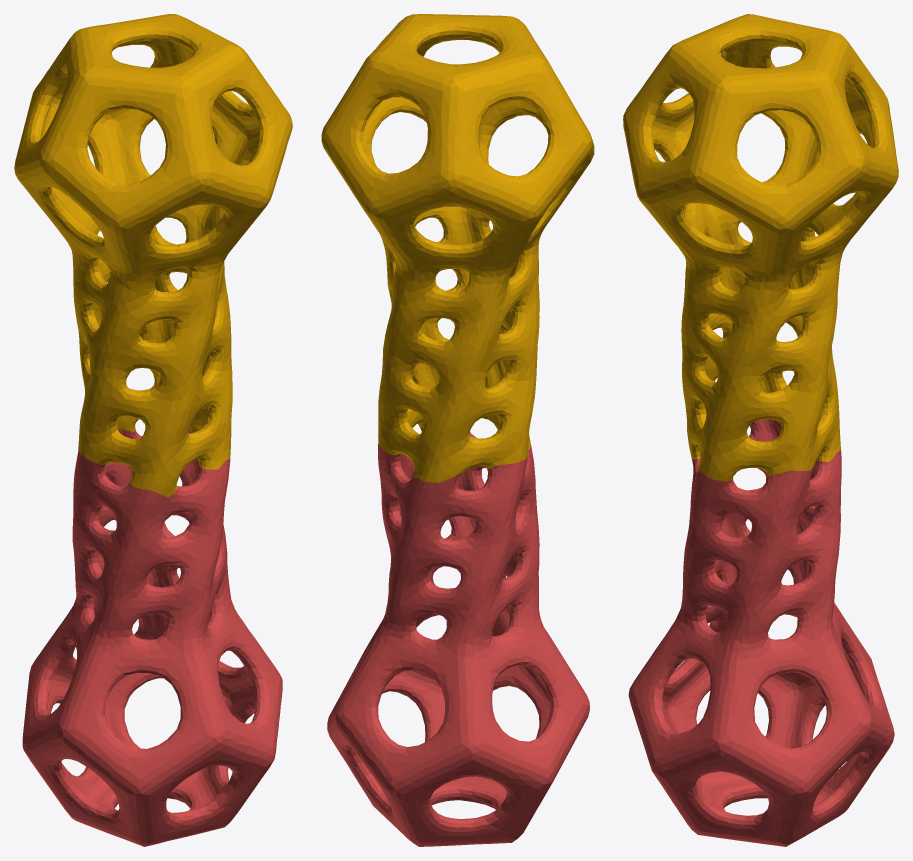
The model's file is fractured_54_2pcs.glb.
The picture shows the model from 3 angles, left to right: view 1: azimuth 30°, elevation 25°; view 2: azimuth 150°, elevation 25°; view 3: azimuth 270°, elevation 25°; orthographic projection.
Visible parts, largest first — view 1: piece_0.obj, piece_1.obj; view 2: piece_0.obj, piece_1.obj; view 3: piece_0.obj, piece_1.obj.
Boxes of the visible parts, left/top/right/bottom form: piece_0.obj: left=14, top=14, right=292, bottom=497; piece_1.obj: left=22, top=428, right=282, bottom=846; piece_0.obj: left=321, top=14, right=594, bottom=482; piece_1.obj: left=327, top=431, right=589, bottom=846; piece_0.obj: left=623, top=14, right=898, bottom=481; piece_1.obj: left=628, top=419, right=894, bottom=846.
Bounding box in the file's own units: 0.3256 × 1 × 0.3253.
